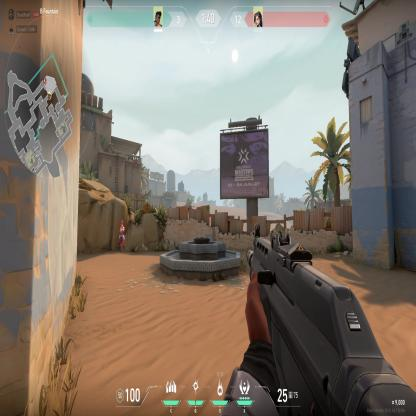enemy: (118, 219, 126, 254)
